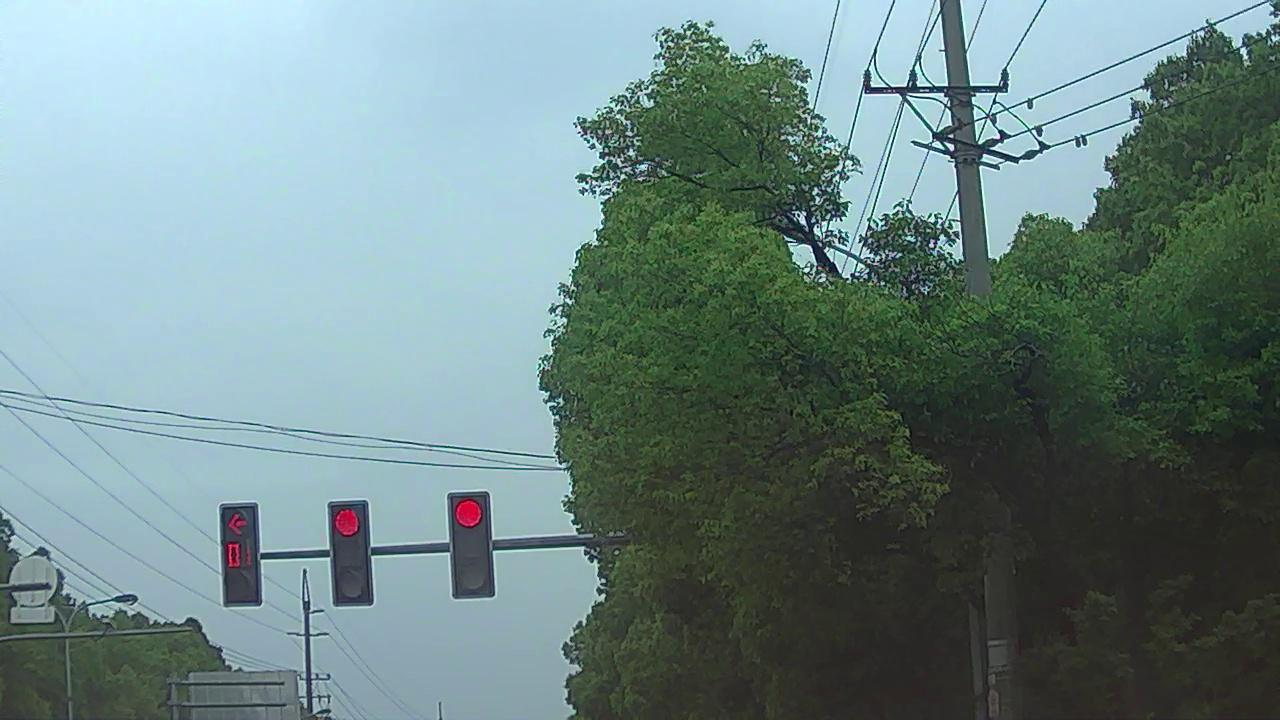traffic_light: (452, 494, 494, 598), (220, 503, 260, 610), (330, 505, 371, 607)
